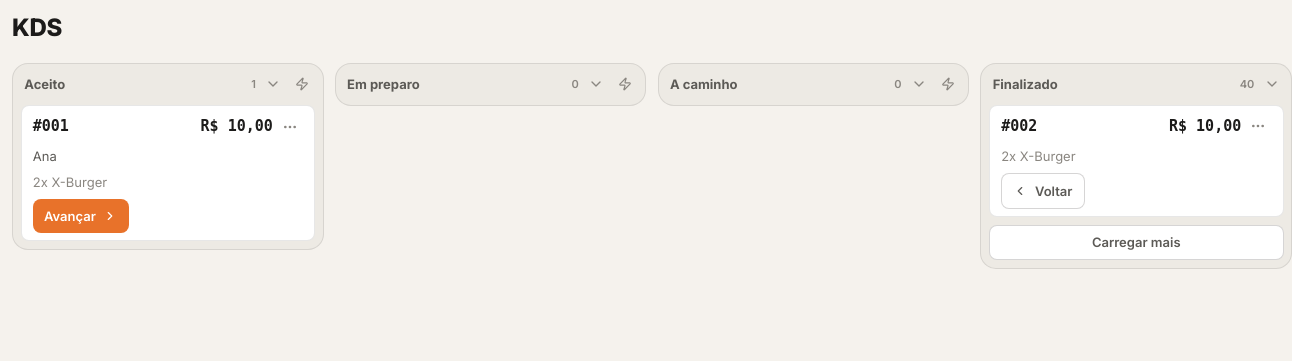
KdsPage › oferece carregar mais quando há finalizados além da página
Expected: the text "#002" is shown, left=1001, top=115, right=1037, bottom=138
Click the button "Carregar mais". click: x=1136, y=242
box: left=989, top=225, right=1284, bottom=260
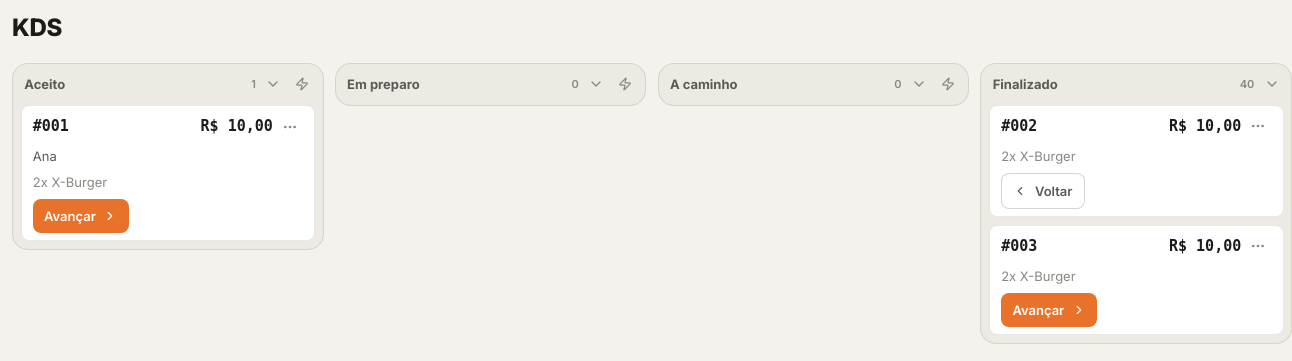
Expected: the text "#003" is shown, left=1001, top=235, right=1037, bottom=258
